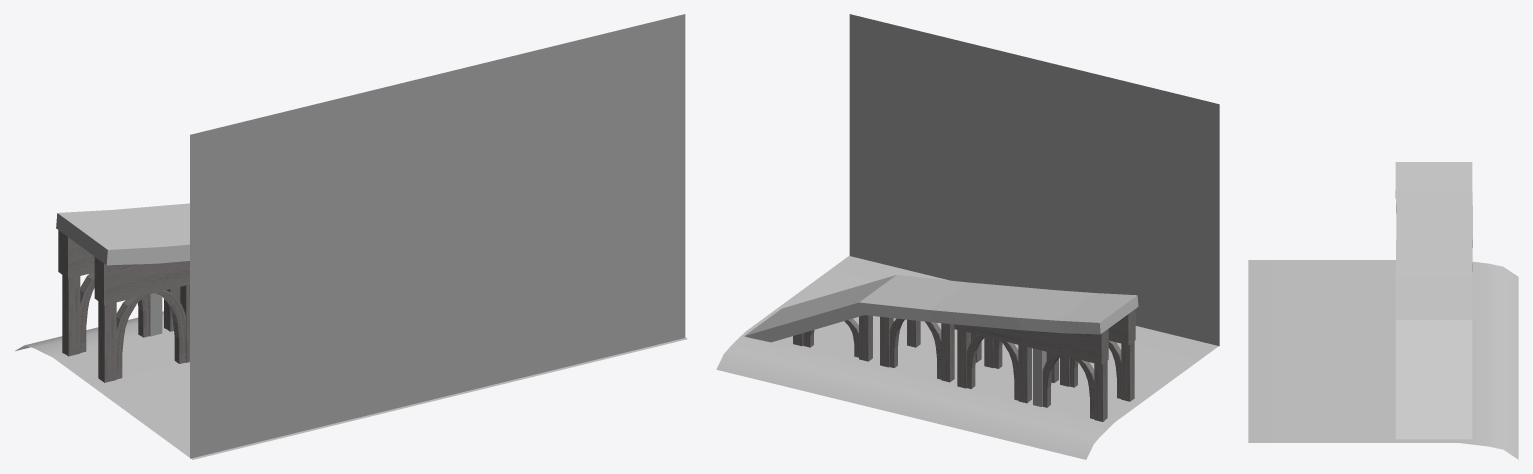
Rendered from modulo-viadut0-01.fbx.
The picture shows the model from 3 angles, left to right: view 1: azimuth 30°, elevation 25°; view 2: azimuth 150°, elevation 25°; view 3: azimuth 270°, elevation 25°; orthographic projection. The views are drawn at different scales.
Visible parts, largest first — view 1: pasted__pasted__pPlane2, polySurface359, pasted__pasted__pasted__pasted__pPlane2; view 2: pasted__pasted__pPlane2, pasted__pasted__pasted__pasted__pPlane2, polySurface359; view 3: pasted__pasted__pasted__pasted__pPlane2, polySurface359.
Part boxes in pixels (left/top/right/bottom): pasted__pasted__pPlane2: left=190, top=14, right=685, bottom=458; polySurface359: left=56, top=203, right=189, bottom=382; pasted__pasted__pasted__pasted__pPlane2: left=15, top=311, right=687, bottom=459; pasted__pasted__pPlane2: left=849, top=14, right=1219, bottom=346; pasted__pasted__pasted__pasted__pPlane2: left=716, top=255, right=1218, bottom=459; polySurface359: left=744, top=275, right=1138, bottom=421; pasted__pasted__pasted__pasted__pPlane2: left=1248, top=260, right=1518, bottom=459; polySurface359: left=1395, top=162, right=1472, bottom=439.
Size of the model in its own units: 160 by 107 by 100.
